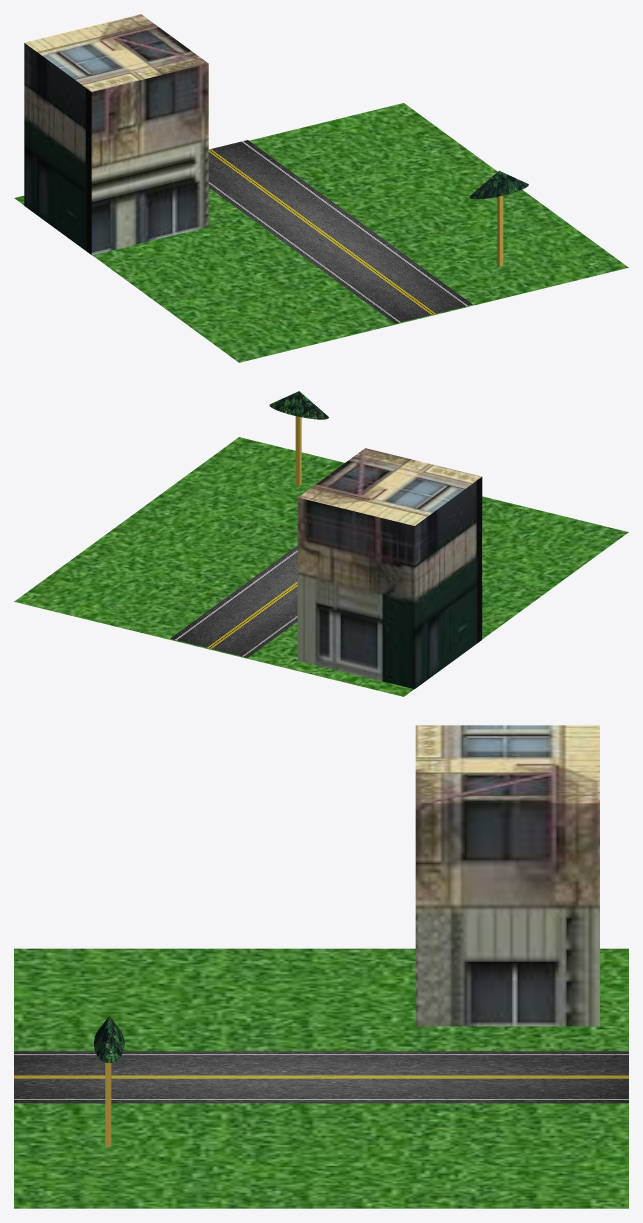
3 renders of one model, top to bottom at view 1: azimuth 30°, elevation 25°; view 2: azimuth 150°, elevation 25°; view 3: azimuth 270°, elevation 25°, orthographic. The views are drawn at different scales.
Parts seen in each view (by area): view 1: PlaneGrass, Cube, RoadPlane, Cone, TreeStem; view 2: PlaneGrass, Cube, RoadPlane, Cone, TreeStem; view 3: PlaneGrass, Cube, RoadPlane, Cone.
Part boxes in pixels (box(x1,y1,x2,y2)): PlaneGrass: box(14, 103, 628, 362); Cube: box(24, 14, 208, 254); RoadPlane: box(208, 140, 472, 323); Cone: box(469, 170, 528, 199); TreeStem: box(497, 195, 503, 266); PlaneGrass: box(14, 437, 628, 696); Cube: box(297, 448, 482, 689); RoadPlane: box(170, 545, 297, 657); Cone: box(269, 391, 328, 419); TreeStem: box(295, 416, 301, 486); PlaneGrass: box(14, 948, 628, 1208); Cube: box(415, 725, 599, 1026); RoadPlane: box(14, 1051, 628, 1103); Cone: box(94, 1016, 124, 1063).
Size of the model in its own units: 40.03 by 16 by 40.
Materials: 5 (4 with a texture image).
